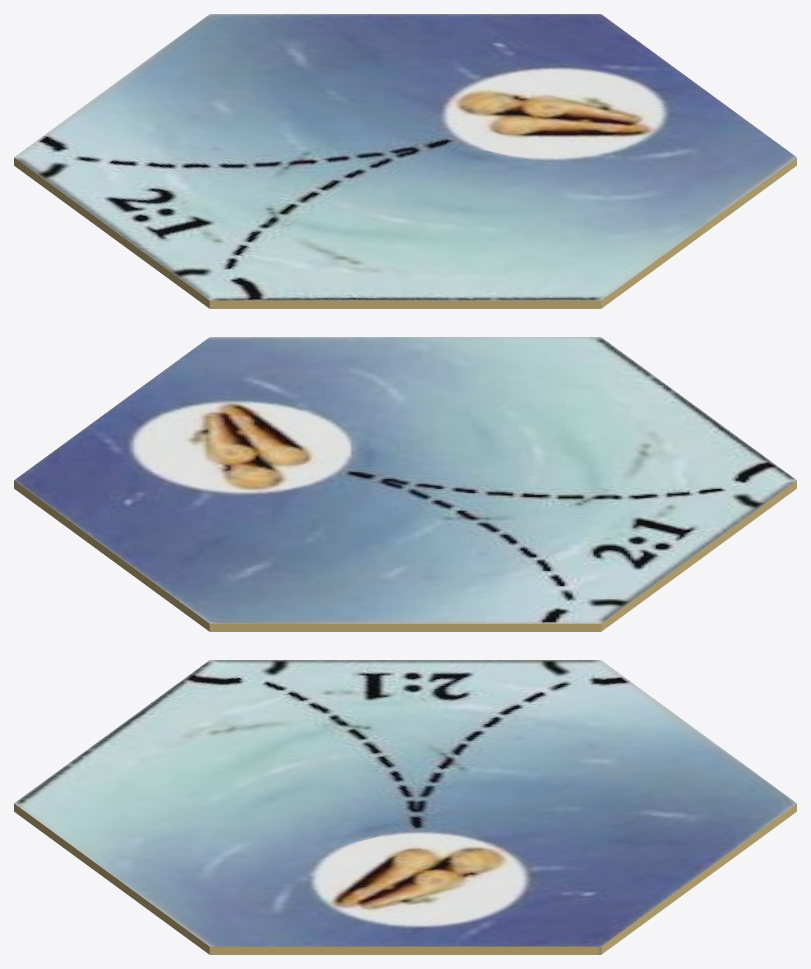
File: trade_wood.obj
3 renders of one model, top to bottom at view 1: azimuth 30°, elevation 25°; view 2: azimuth 150°, elevation 25°; view 3: azimuth 270°, elevation 25°, orthographic.
Visible parts, largest first — view 1: trade_wood; view 2: trade_wood; view 3: trade_wood.
Part boxes in pixels (x1,y1,x2,y2): trade_wood: (14,14,796,308); trade_wood: (14,337,796,631); trade_wood: (14,660,796,954).
Size of the model in its own units: 1.73 by 0.0232 by 2.
